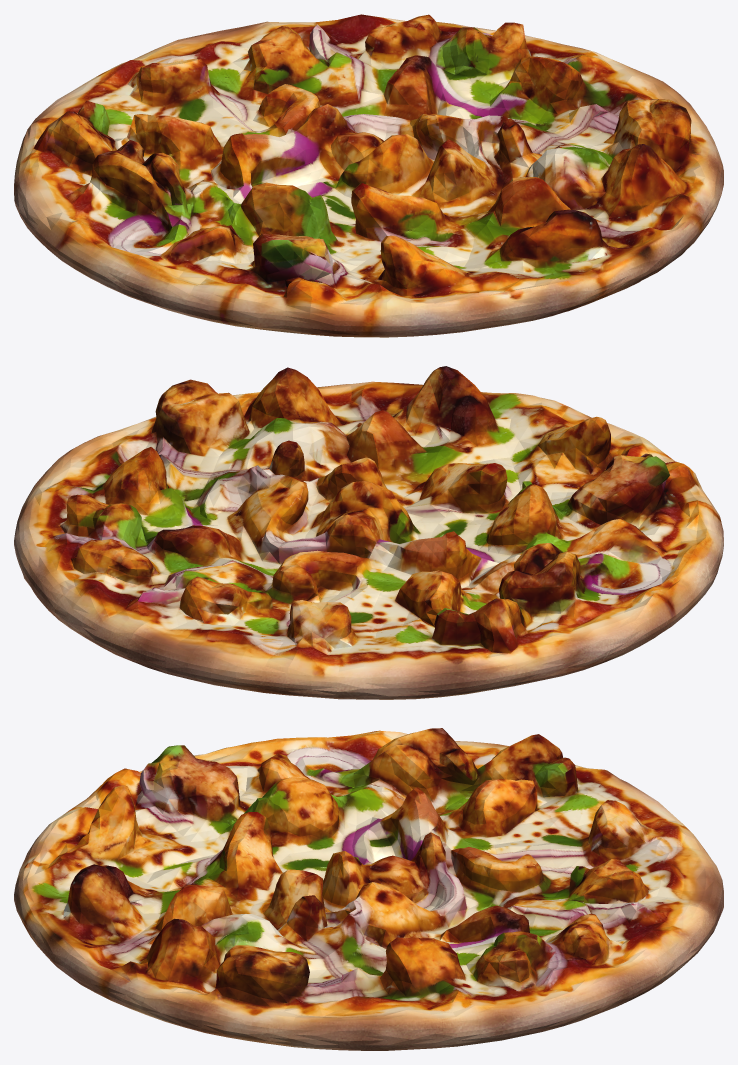
Rendered from Meshy_AI_Tandoori_Chicken_Pizz_0611101253_texture.glb.
3 renders of one model, top to bottom at view 1: azimuth 30°, elevation 25°; view 2: azimuth 150°, elevation 25°; view 3: azimuth 270°, elevation 25°, orthographic.
Size of the model in its own units: 1.9 by 0.2192 by 1.91.
Materials: 1 (1 with a texture image).
